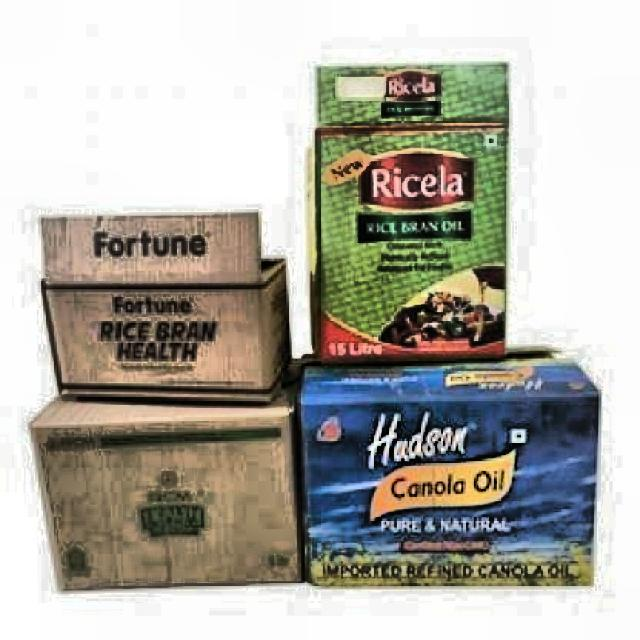Cardbox: (281, 62, 602, 610), (28, 189, 300, 602), (304, 58, 516, 370)
